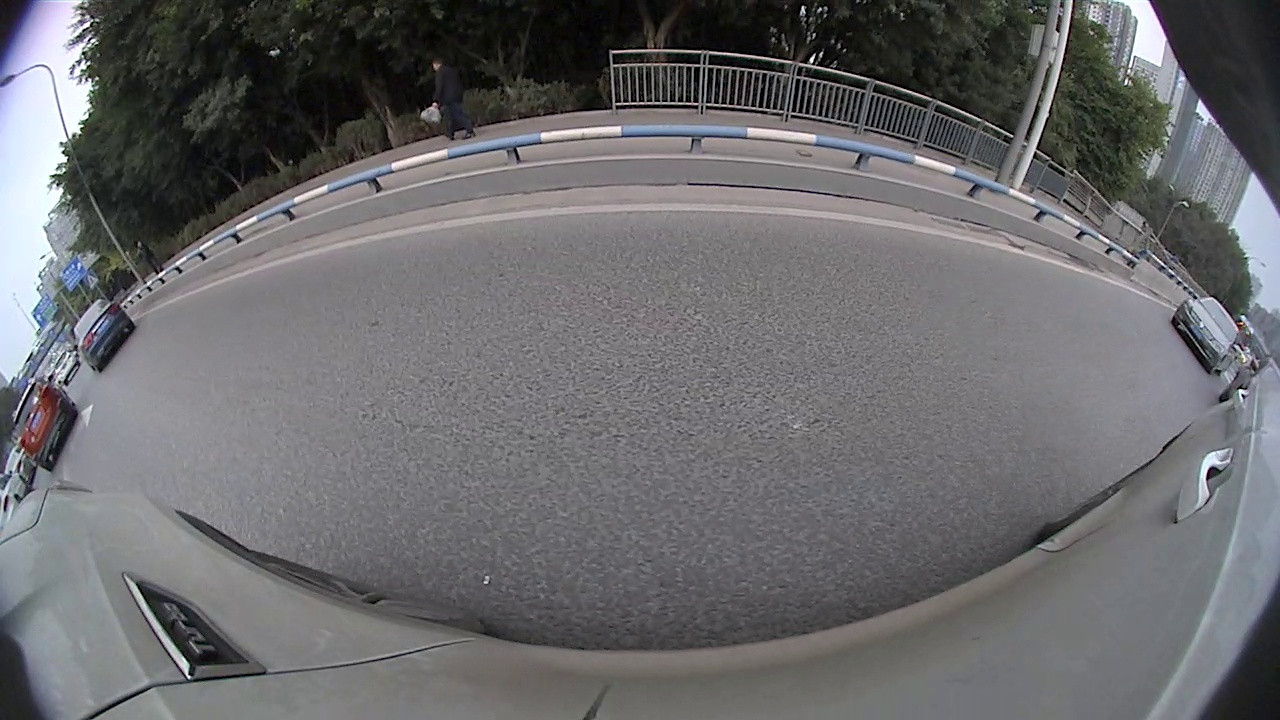car: (11, 375, 79, 468), (1172, 295, 1239, 376), (70, 297, 135, 375), (1220, 356, 1273, 403), (1, 464, 33, 532), (50, 350, 79, 378)
front: (1204, 355, 1225, 375), (1169, 314, 1182, 327)
person: (433, 57, 457, 142), (139, 238, 156, 278)
rear: (1216, 388, 1233, 403), (39, 458, 57, 471), (64, 405, 79, 420), (125, 319, 137, 332), (94, 360, 105, 374)
